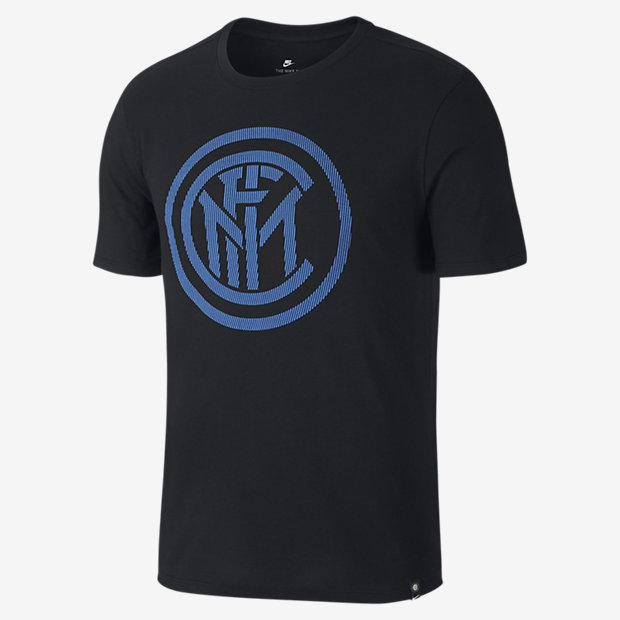teeshirt: (62, 4, 575, 620)
